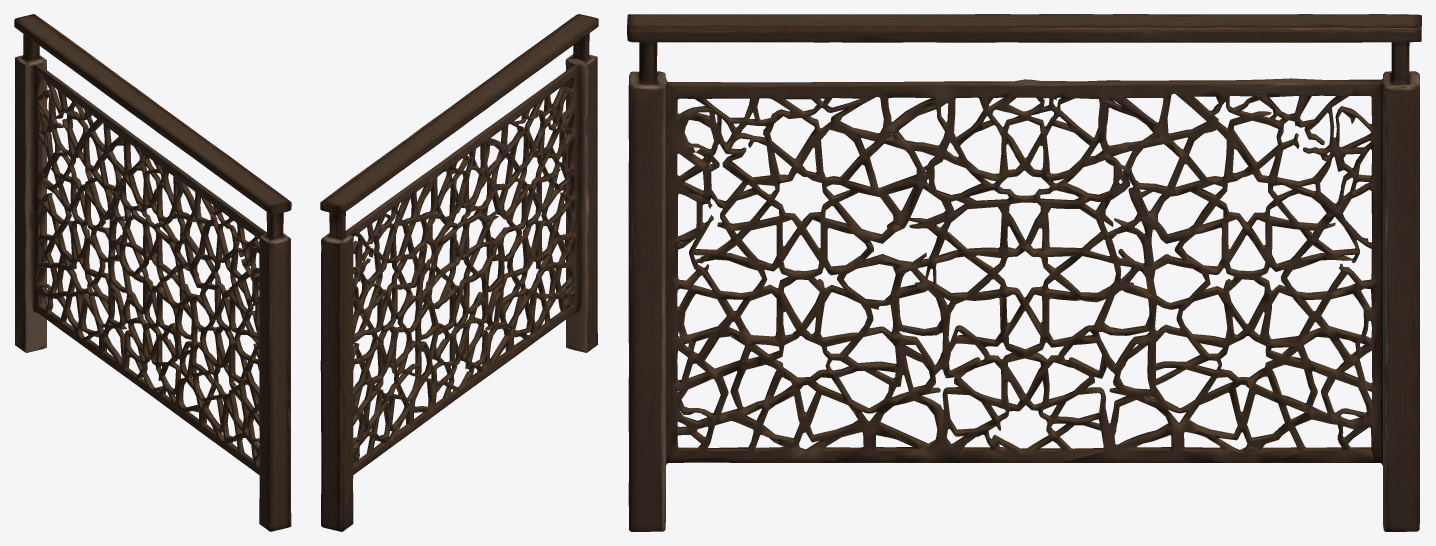
File: balcrail.glb
3 views of the same model, side by side, from view 1: azimuth 30°, elevation 25°; view 2: azimuth 150°, elevation 25°; view 3: azimuth 270°, elevation 25° (orthographic). The views are drawn at different scales.
Parts seen in each view (by area): view 1: tripo_node_59b3634f-7aed-4abb-b65b-6a26f1630ae5; view 2: tripo_node_59b3634f-7aed-4abb-b65b-6a26f1630ae5; view 3: tripo_node_59b3634f-7aed-4abb-b65b-6a26f1630ae5.
Boxes of the visible parts, box(x1,y1,x2,y2) form: tripo_node_59b3634f-7aed-4abb-b65b-6a26f1630ae5: box(14, 14, 291, 531); tripo_node_59b3634f-7aed-4abb-b65b-6a26f1630ae5: box(320, 14, 598, 531); tripo_node_59b3634f-7aed-4abb-b65b-6a26f1630ae5: box(627, 14, 1421, 531).
Size of the model in its own units: 0.0722 by 0.9999 by 1.43.
1 material, 1 textured.
